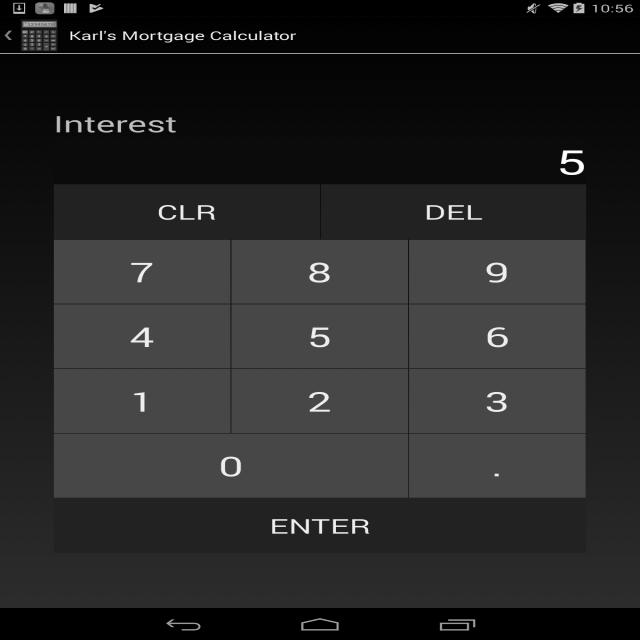Button: (54, 498, 586, 553), (54, 433, 408, 498), (54, 184, 320, 239), (321, 184, 586, 239), (409, 433, 586, 498), (231, 240, 408, 304), (409, 240, 586, 304), (231, 304, 408, 368), (409, 304, 586, 368), (231, 369, 408, 433), (409, 369, 586, 433), (54, 240, 230, 304), (54, 304, 230, 368), (54, 369, 230, 433)
EditText: (53, 139, 587, 184)
ImageView: (14, 19, 64, 52), (0, 30, 17, 41)
TextView: (53, 108, 587, 139), (69, 27, 297, 43)
